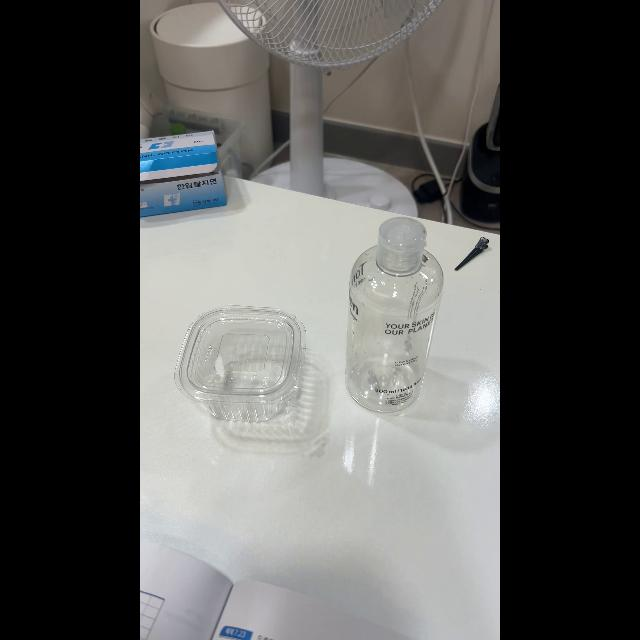clean: (346, 216, 444, 410), (175, 308, 307, 422)
